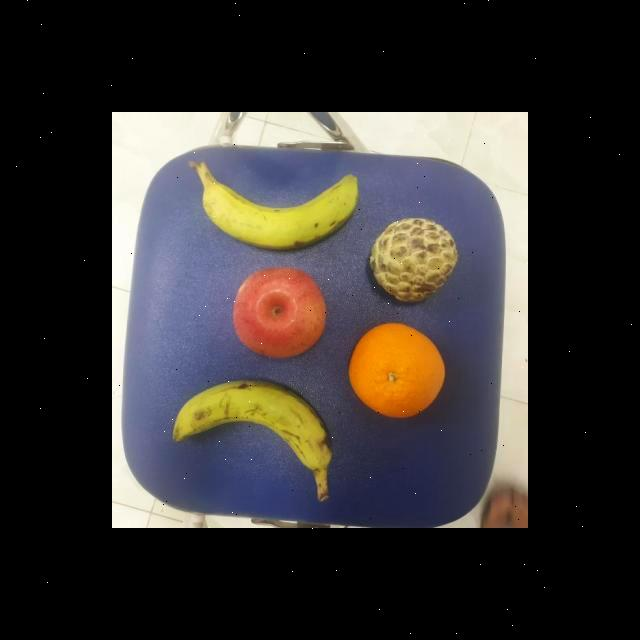Sakya fruit: (365, 213, 460, 304)
apple: (232, 266, 328, 360)
banana: (170, 379, 336, 471), (196, 171, 360, 251)
orange: (348, 322, 445, 420)
